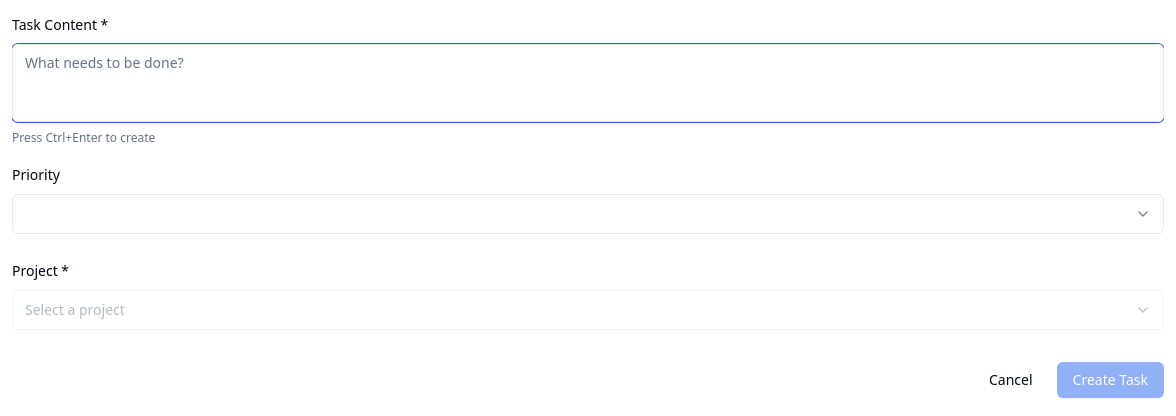
Test case: TaskCreateModal › should disable submit button while creating task
Type "Test Task" into the text box labelled "Task Content *".
click(588, 83); type("Test Task")  # box [12, 44, 1164, 122]
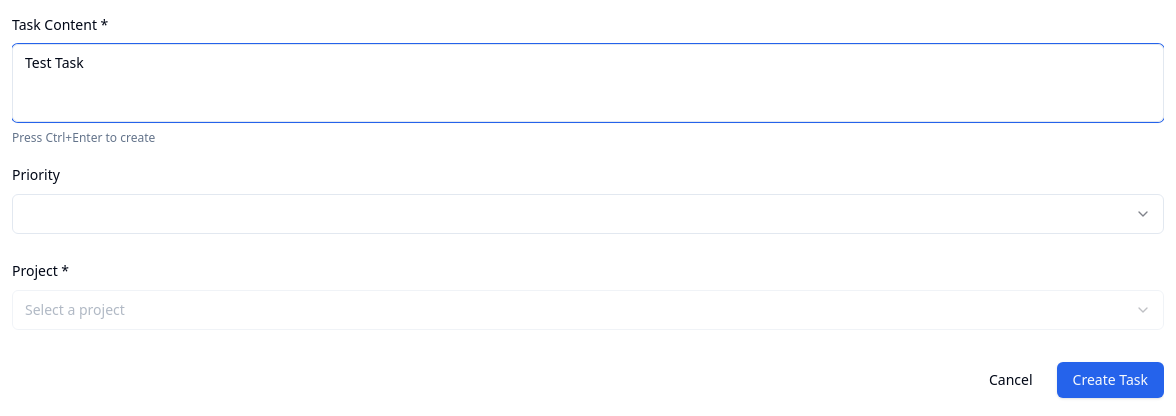
Click the button "Create Task".
click(1110, 380)  # box [1057, 362, 1164, 398]
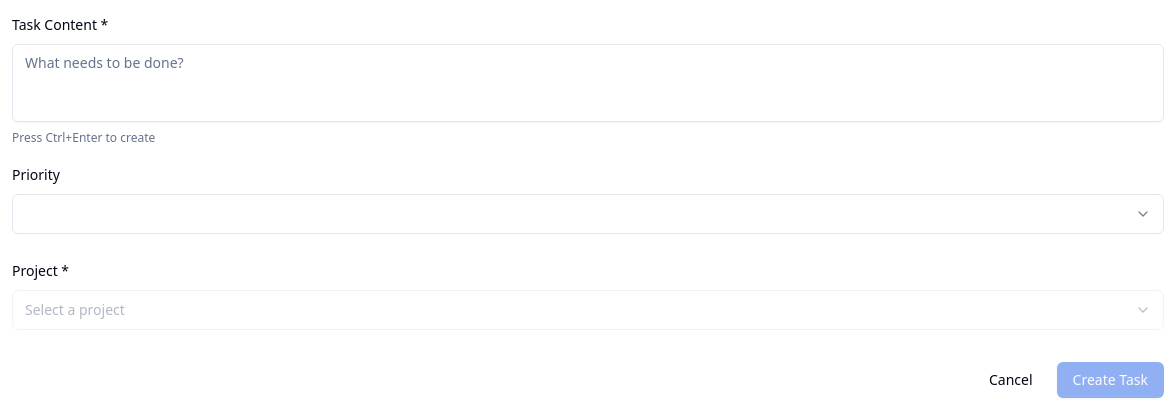
Result: the button named "creating" is disabled at [1057, 362, 1164, 398]
